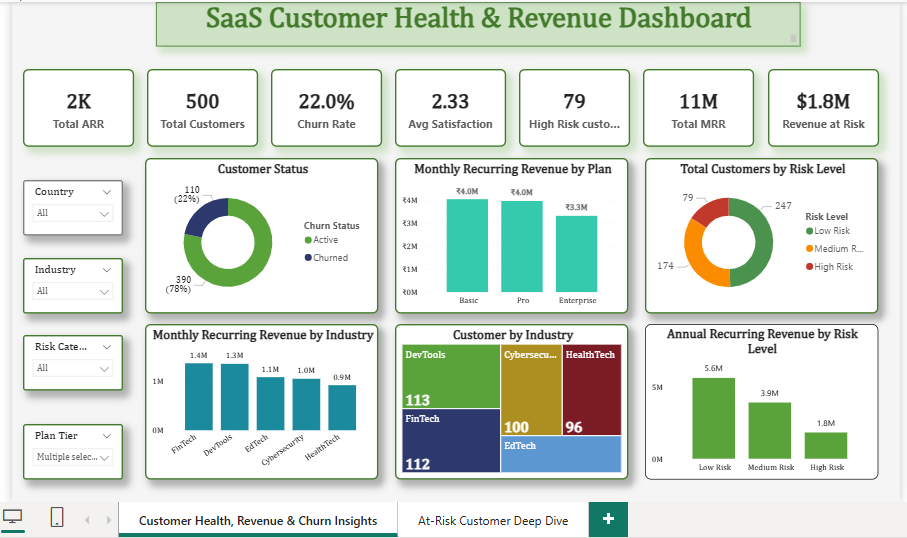

The dashboard page shown, as its layout file describes it:
{"tool":"powerbi","page":{"name":"Customer Health, Revenue & Churn Insights","canvas":[1280,720],"ordinal":0},"visuals":[{"type":"card","fields":{"Values":["Measure.sum_arr"]},"box":[16,96,160,112],"z":0},{"type":"card","fields":{"Values":["Measure.sum_mrr"]},"box":[909.3,96,160,112],"z":1000},{"type":"card","fields":{"Values":["Measure.Revenue at Risk"]},"box":[1088,96,160,112],"z":2000},{"type":"card","fields":{"Values":["Measure.Total Customers"]},"box":[194.7,96,160,112],"z":3000},{"type":"card","fields":{"Values":["Measure.churn_rate"]},"box":[373.3,96,160,112],"z":4000},{"type":"card","fields":{"Values":["Measure.avg_satisfaction"]},"box":[552,96,160,112],"z":5000},{"type":"card","fields":{"Values":["Measure.high_risk_customers"]},"box":[730.7,96,160,112],"z":6000},{"type":"clusteredColumnChart","title":"Monthly Recurring Revenue by Plan","fields":{"Category":["Customer_Health_Score.plan_tier"],"Y":["Sum(Customer_Health_Score.total_mrr)"]},"box":[552,224,336,224],"z":7000},{"type":"treemap","title":" Customer by Industry","fields":{"Group":["Customer_Health_Score.industry"],"Values":["Measure.Total Customers"]},"box":[552,464,336,224],"z":8000},{"type":"donutChart","fields":{"Category":["Customer_Health_Score.risk_category"],"Y":["Measure.Total Customers"]},"box":[912,224,336,224],"z":9000},{"type":"donutChart","title":"Customer Status","fields":{"Category":["Customer_Health_Score.churn_status-label"],"Y":["Measure.Total Customers"]},"box":[192,224,336,224],"z":10000},{"type":"clusteredColumnChart","title":"Annual Recurring Revenue by Risk Level","fields":{"Category":["Customer_Health_Score.risk level"],"Y":["Measure.sum_mrr"]},"box":[912,464,336,224],"z":11000},{"type":"slicer","fields":{"Values":["Customer_Health_Score.industry"]},"box":[16,368,144,80],"z":12000},{"type":"slicer","fields":{"Values":["Customer_Health_Score.plan_tier"]},"box":[16,608,144,80],"z":13000},{"type":"slicer","fields":{"Values":["Customer_Health_Score.risk_category"]},"box":[16,480,144,80],"z":14000},{"type":"slicer","fields":{"Values":["Customer_Health_Score.country"]},"box":[16,256,144,80],"z":15000},{"type":"textbox","title":"SaaS Customer Health & Revenue Dashboard","box":[208,0,928,64],"z":16000},{"type":"clusteredColumnChart","title":"Monthly Recurring Revenue by Industry","fields":{"Category":["Customer_Health_Score.industry"],"Y":["Measure.sum_mrr"]},"box":[192,464,336,224],"z":17000}]}

Visuals, with their boxes in screenshot pixels (x1, y1, x2, y2):
card - Measure.sum_arr: detection(18, 67, 130, 145)
card - Measure.sum_mrr: detection(643, 67, 754, 145)
card - Measure.Revenue at Risk: detection(767, 67, 879, 145)
card - Measure.Total Customers: detection(143, 67, 255, 145)
card - Measure.churn_rate: detection(268, 67, 380, 145)
card - Measure.avg_satisfaction: detection(393, 67, 505, 145)
card - Measure.high_risk_customers: detection(518, 67, 630, 145)
"Monthly Recurring Revenue by Plan" clusteredColumnChart: detection(393, 157, 628, 313)
" Customer by Industry" treemap: detection(393, 324, 628, 481)
donutChart - Customer_Health_Score.risk_category x Measure.Total Customers: detection(644, 157, 879, 313)
"Customer Status" donutChart: detection(141, 157, 376, 313)
"Annual Recurring Revenue by Risk Level" clusteredColumnChart: detection(644, 324, 879, 481)
slicer - Customer_Health_Score.industry: detection(18, 257, 119, 313)
slicer - Customer_Health_Score.plan_tier: detection(18, 425, 119, 481)
slicer - Customer_Health_Score.risk_category: detection(18, 335, 119, 391)
slicer - Customer_Health_Score.country: detection(18, 179, 119, 235)
"SaaS Customer Health & Revenue Dashboard" textbox: detection(152, 0, 801, 45)
"Monthly Recurring Revenue by Industry" clusteredColumnChart: detection(141, 324, 376, 481)
